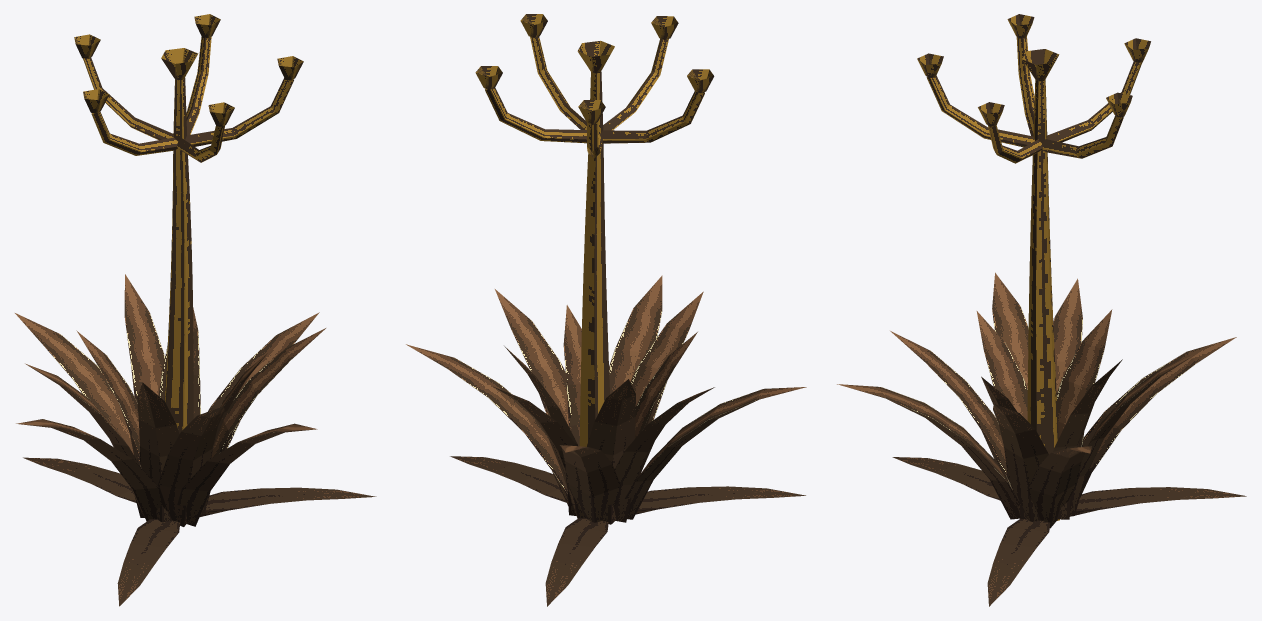
Rendered from candelariaPlanta2.gltf.
The picture shows the model from 3 angles, left to right: view 1: azimuth 30°, elevation 25°; view 2: azimuth 150°, elevation 25°; view 3: azimuth 270°, elevation 25°; orthographic projection.
Visible parts, largest first — view 1: FLO-01_Candelaria.188; view 2: FLO-01_Candelaria.188; view 3: FLO-01_Candelaria.188.
Boxes of the visible parts, left/top/right/bottom form: FLO-01_Candelaria.188: left=15, top=14, right=376, bottom=606; FLO-01_Candelaria.188: left=406, top=14, right=806, bottom=606; FLO-01_Candelaria.188: left=837, top=14, right=1246, bottom=606.
Size of the model in its own units: 2.48 by 3.08 by 2.46.
Materials: 1 (1 with a texture image).
